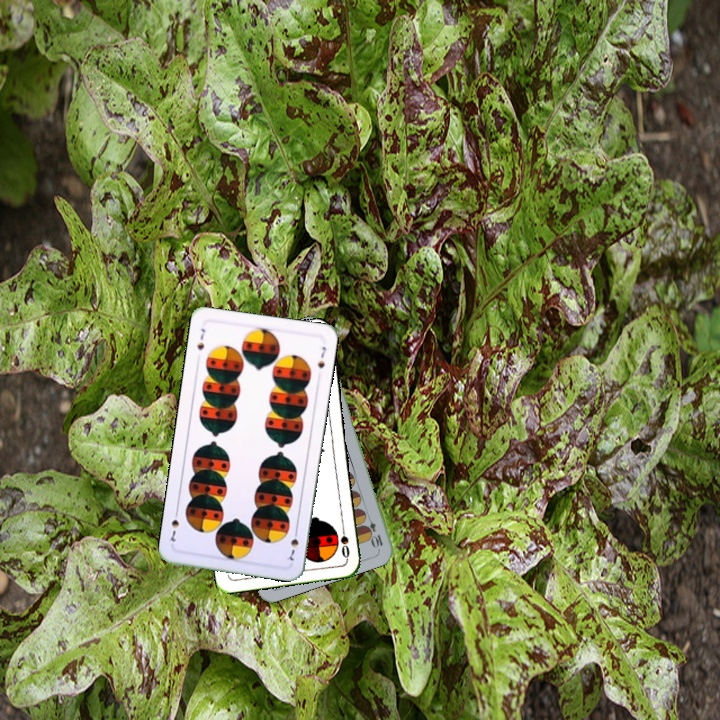E10: (362, 510, 386, 550)
S7: (283, 525, 301, 563), (193, 324, 208, 353)
SO: (336, 520, 352, 561)
